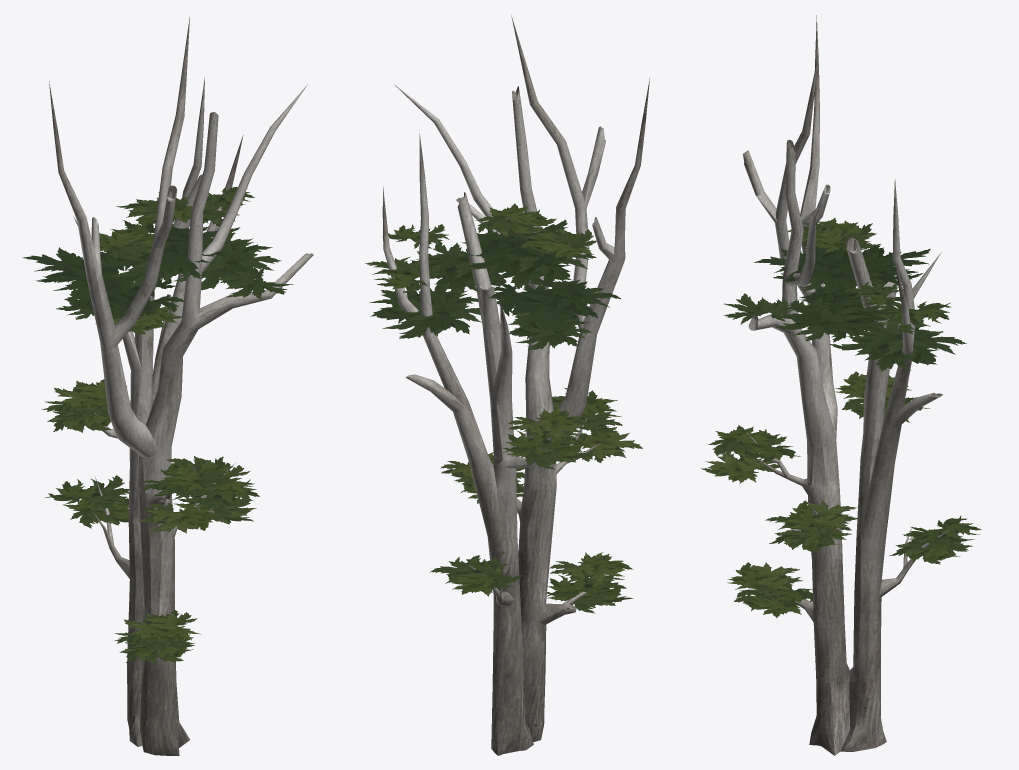
Rendered from tree_oak_03.fbx.
The picture shows the model from 3 angles, left to right: view 1: azimuth 30°, elevation 25°; view 2: azimuth 150°, elevation 25°; view 3: azimuth 270°, elevation 25°; orthographic projection. The views are drawn at different scales.
Parts seen in each view (by area): view 1: tree_oak_03; view 2: tree_oak_03; view 3: tree_oak_03.
Boxes of the visible parts, x1,y1,x2,y2 form: tree_oak_03: [22, 17, 313, 755]; tree_oak_03: [365, 15, 649, 755]; tree_oak_03: [700, 15, 981, 755].
Size of the model in its own units: 17873 by 47151 by 19250.
